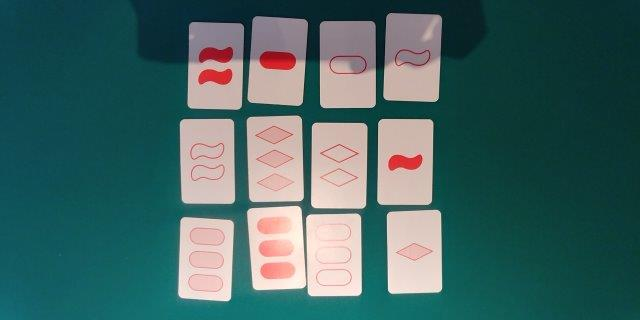1EP: (322, 23, 373, 105)
1EW: (387, 17, 436, 96)
1FP: (256, 19, 302, 102)
1FW: (380, 122, 430, 202)
1HD: (389, 215, 438, 289)
2ED: (315, 125, 362, 206)
2EW: (182, 120, 231, 201)
2FW: (192, 25, 239, 106)
3EP: (310, 216, 357, 292)
3FP: (253, 211, 301, 286)
3HD: (250, 118, 300, 199)
3HP: (182, 222, 229, 297)
